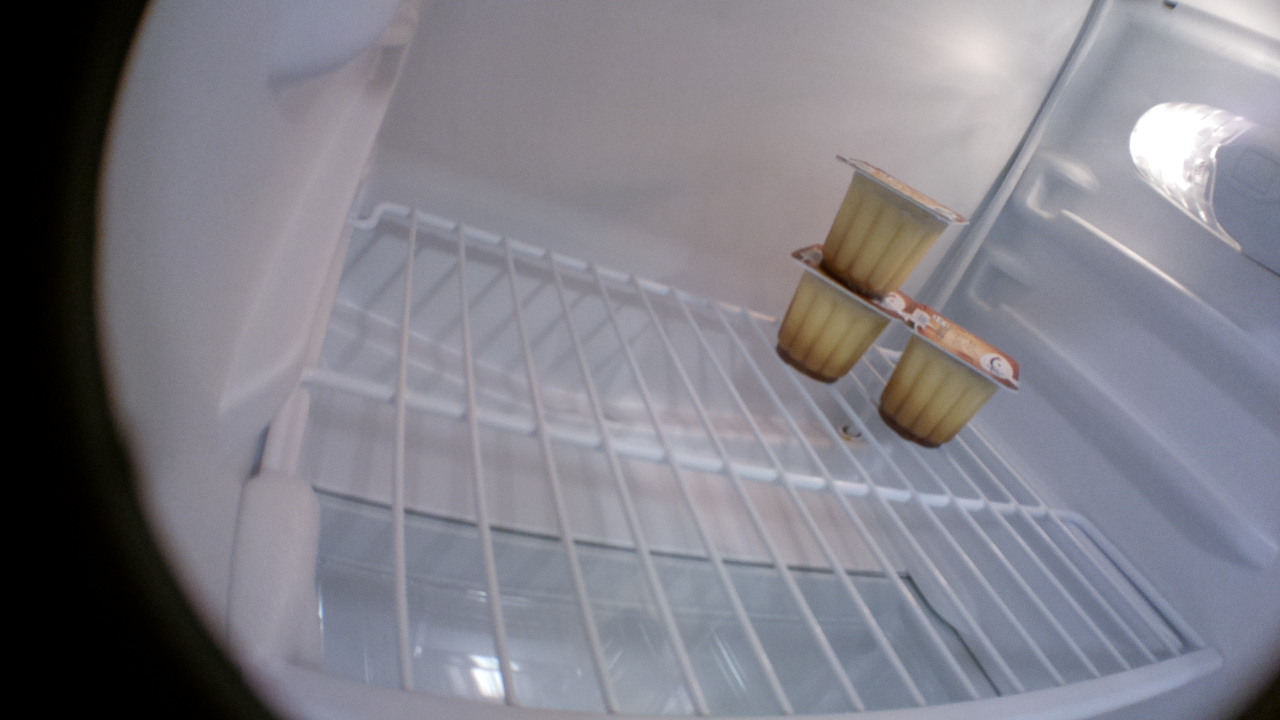caramel: (823, 152, 969, 301), (878, 300, 1019, 448), (773, 242, 908, 384)
